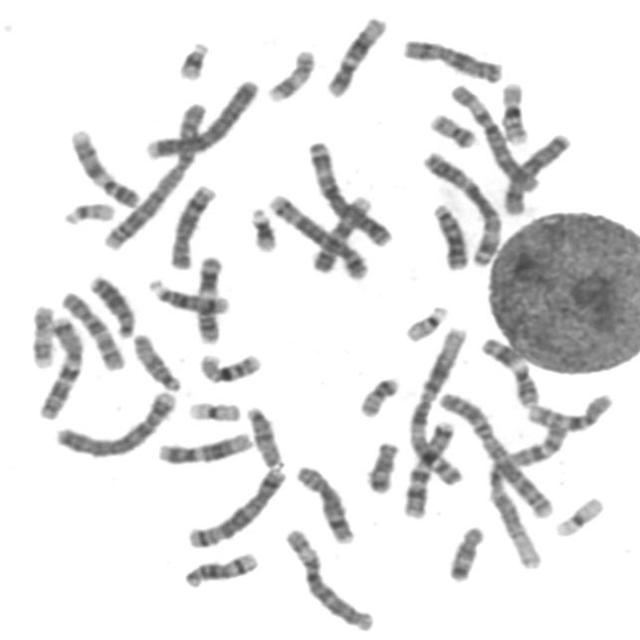A1: (482, 414, 570, 572), (402, 320, 471, 489)
A2: (96, 94, 211, 252), (433, 385, 557, 522)
A3: (417, 144, 507, 268), (302, 134, 396, 248)
B4: (138, 72, 261, 161), (49, 384, 179, 460)
B5: (263, 188, 372, 282), (180, 461, 288, 550)
C10: (55, 285, 128, 373), (519, 386, 616, 433)
C11: (475, 331, 542, 409), (189, 250, 226, 346)
C12: (321, 10, 389, 99), (151, 426, 256, 466)
C6: (445, 77, 541, 193), (278, 521, 377, 633)
C7: (396, 414, 457, 520), (32, 310, 85, 421)
C8: (289, 458, 357, 545), (163, 178, 219, 271)
C9: (64, 122, 141, 208), (306, 190, 373, 273)
D13: (83, 268, 137, 339), (426, 198, 471, 272)
D14: (142, 273, 232, 316), (177, 546, 261, 589)
D15: (126, 328, 183, 393), (240, 400, 286, 470)
E16: (192, 346, 265, 385), (494, 76, 532, 146)
E17: (261, 43, 317, 104), (25, 298, 56, 370)
E18: (442, 519, 487, 583), (360, 435, 402, 495)
F19: (549, 491, 606, 539), (181, 394, 244, 424)
F20: (352, 370, 403, 419), (423, 107, 479, 150)
G21: (171, 34, 212, 82), (243, 201, 280, 253)
G22: (398, 299, 451, 343), (58, 196, 117, 227)
X: (497, 127, 573, 217), (396, 32, 506, 84)
